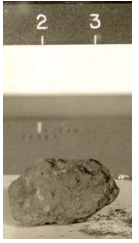Breccia: (11, 147, 123, 227)
